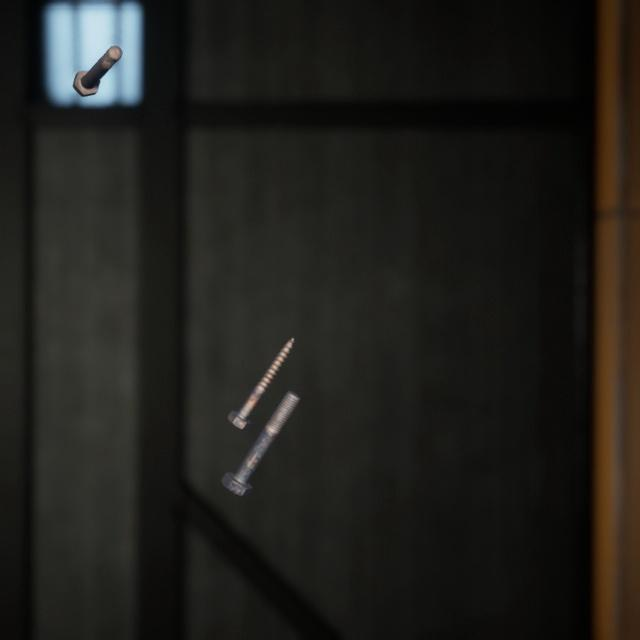bolt: (216, 365, 305, 480), (222, 313, 299, 415), (68, 30, 126, 91)
